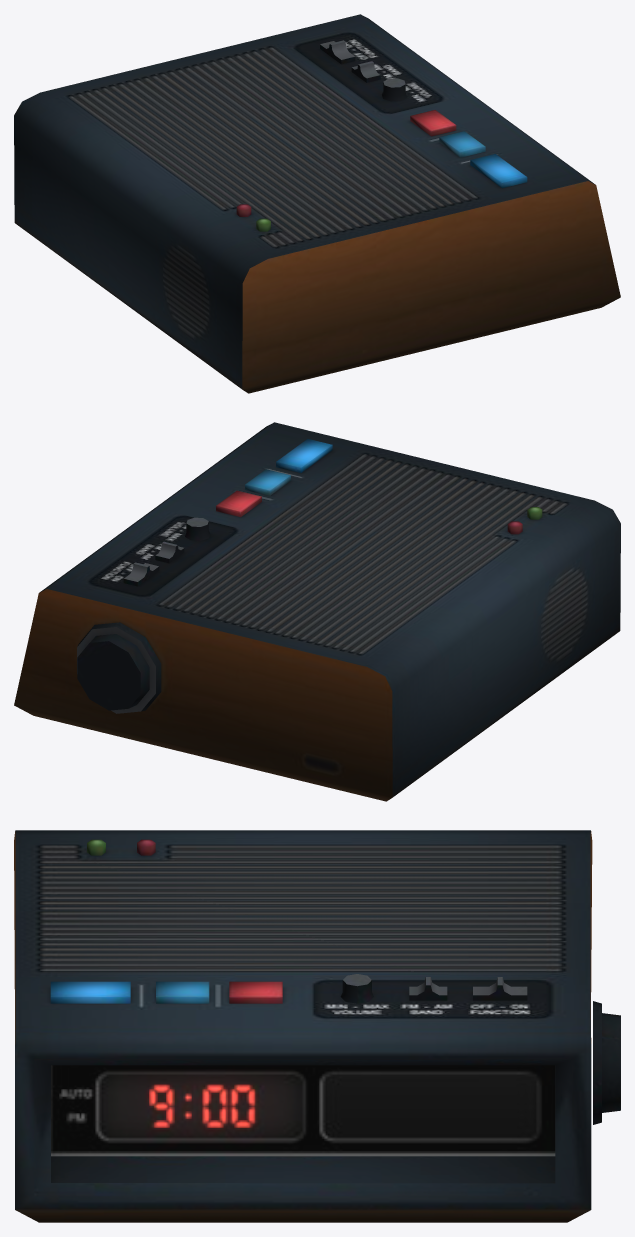
Rendered from clock-radio.glb.
The picture shows the model from 3 angles, top to bottom: view 1: azimuth 30°, elevation 25°; view 2: azimuth 150°, elevation 25°; view 3: azimuth 270°, elevation 25°; orthographic projection. The views are drawn at different scales.
Parts seen in each view (by area): view 1: Object_2; view 2: Object_2; view 3: Object_2.
Boxes of the visible parts, bbox=[...] form: Object_2: bbox=[14, 14, 620, 393]; Object_2: bbox=[14, 422, 620, 801]; Object_2: bbox=[14, 830, 620, 1222].
Size of the model in its own units: 1.92 by 0.7406 by 2.11.
Materials: 1 (1 with a texture image).
